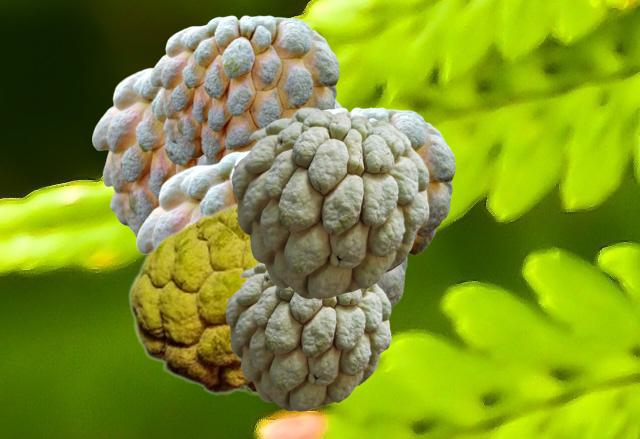atis: (136, 149, 409, 311), (92, 67, 342, 238), (231, 107, 428, 298), (150, 15, 338, 163), (127, 200, 257, 394), (225, 263, 390, 410), (324, 107, 454, 273)
